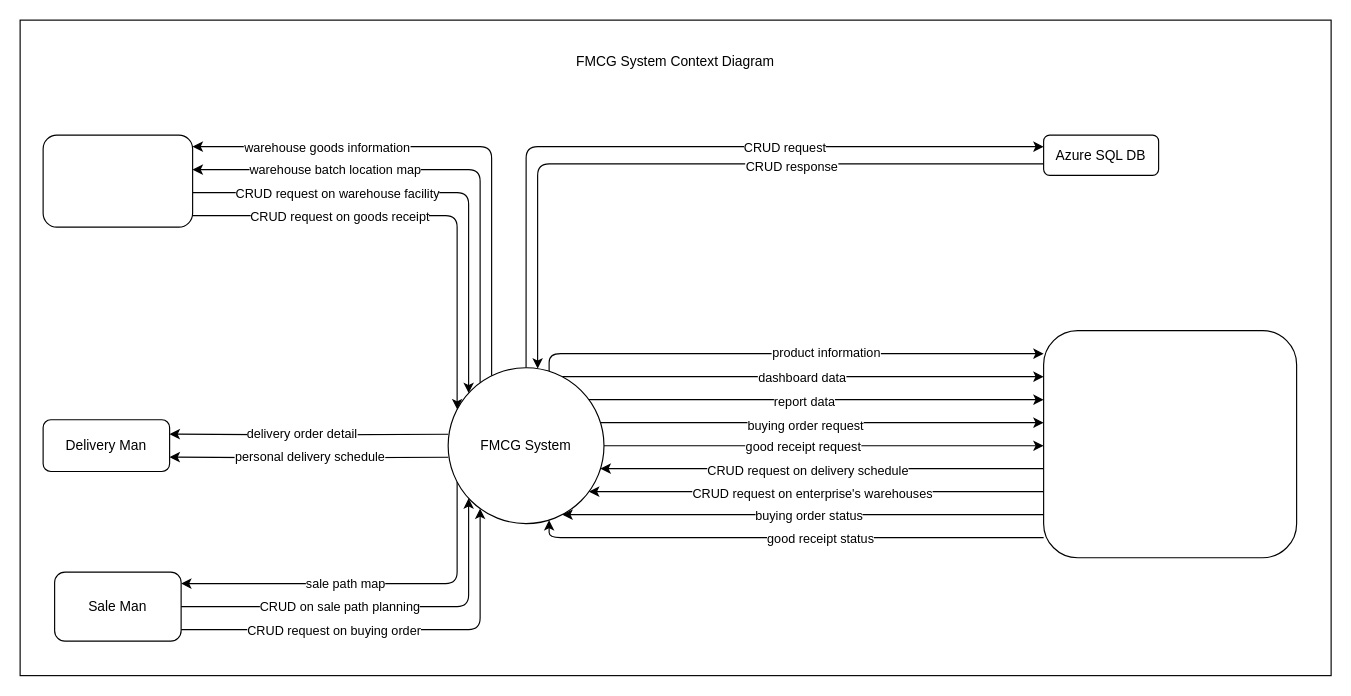
Some shapes in this 1351 by 696 pixel diagram are drawn without their labels. The shapes that lost their labels are listed below. From the top down, each one's box as (x1, y1, x2, y2) in pixels, then its label:
(42, 134, 193, 227): Warehouse Staff
(1042, 329, 1297, 558): Admin/Manager
